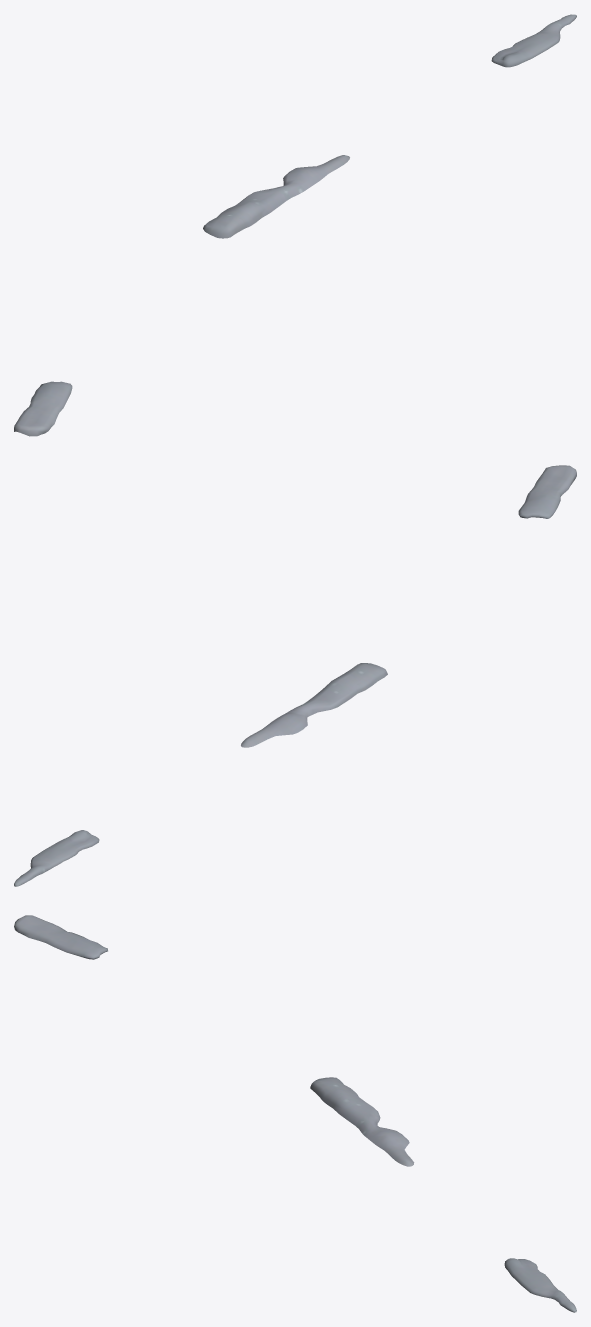
Rendered from pref_sm_beach_winter_snow07_lv3.fbx.
3 renders of one model, top to bottom at view 1: azimuth 30°, elevation 25°; view 2: azimuth 210°, elevation 25°; view 3: azimuth 270°, elevation 25°, orthographic. The views are drawn at different scales.
Parts seen in each view (by area): view 1: pref_sm_beach_winter_snow07_lv3; view 2: pref_sm_beach_winter_snow07_lv3; view 3: pref_sm_beach_winter_snow07_lv3.
Part boxes in pixels (bbox=[...]): pref_sm_beach_winter_snow07_lv3: bbox=[14, 14, 576, 436]; pref_sm_beach_winter_snow07_lv3: bbox=[14, 465, 576, 886]; pref_sm_beach_winter_snow07_lv3: bbox=[14, 915, 576, 1312].
Size of the model in its own units: 24.74 by 0.364 by 14.92.
